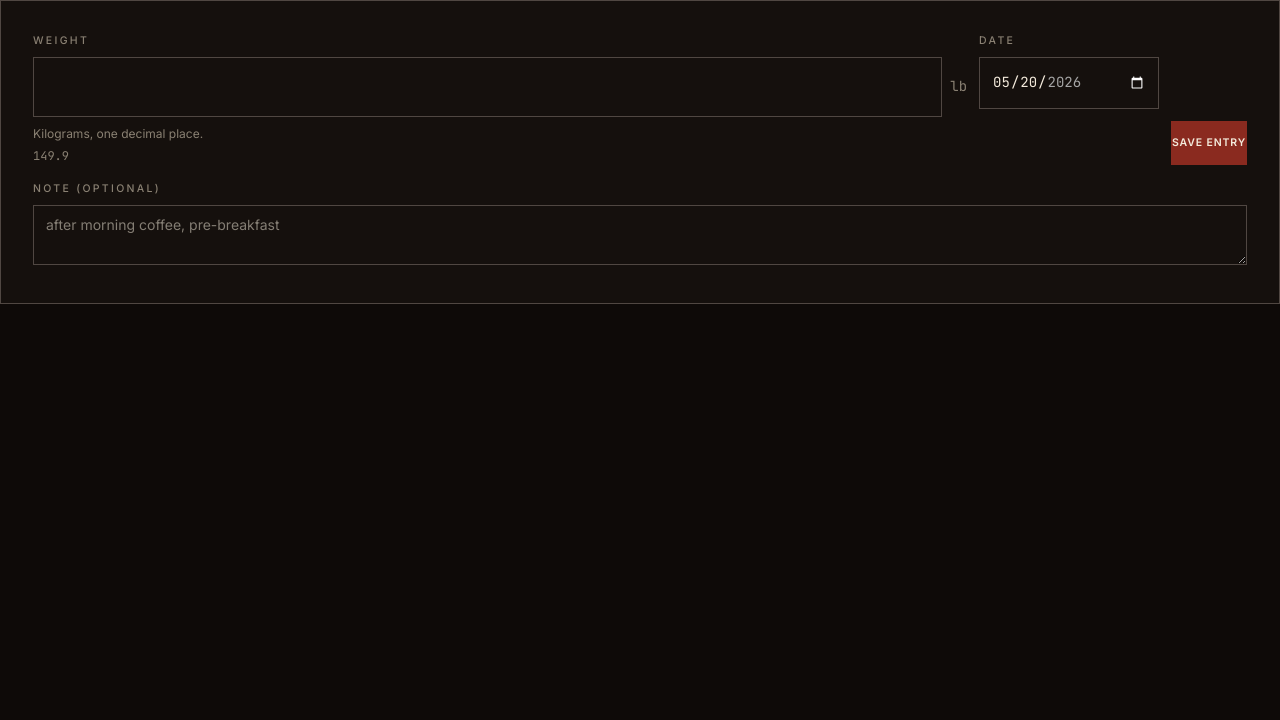
Test: F3 — WeightQuickAdd optimistic + rollback integration › imperial mode: server 500 → rollback toast shows lb, ARIA string says "pounds", body submits kg
The width and height of the screenshot is (1280, 720).
User types 154.3 lb.
Type "154.3" into the number field with test id "weight-quick-add-input" at (488, 87), box [33,57,942,117]
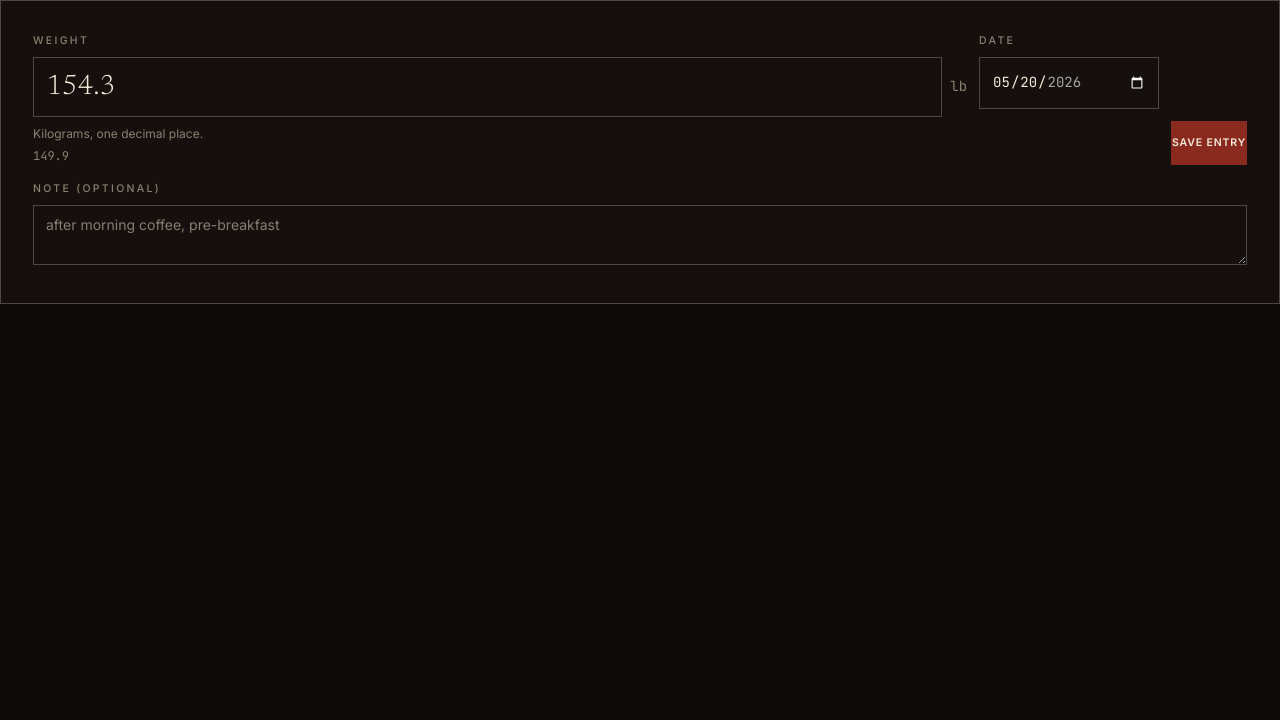
Submit the form with test id "weight-quick-add-submit", box [33,33,1247,270]
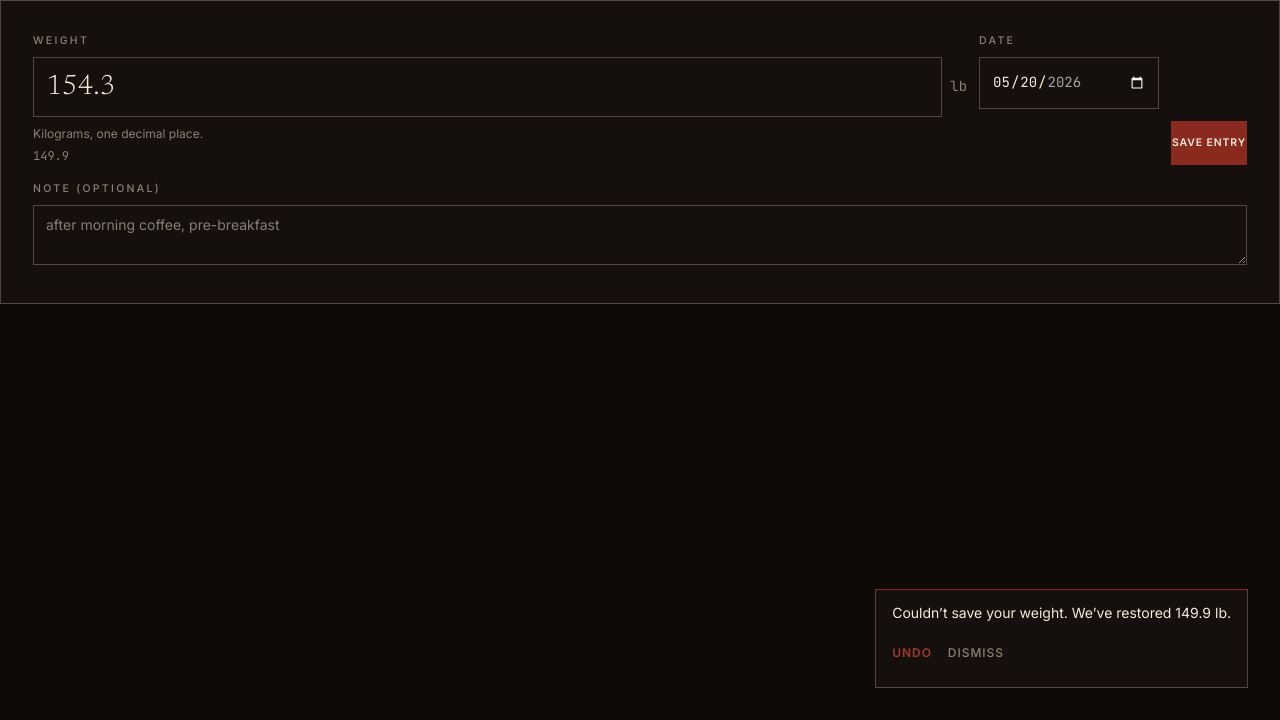
Expected: the element with test id "weight-quick-add-status" does not show "kilograms"
Expected: the message "Couldn’t save your weight. We’ve restored 149.9 lb. UNDO DISMISS" is shown, [875,589,1248,688]
Expected: the message with test id "weight-rollback-toast" reads "Couldn’t save your weight. We’ve restored 149.9 lb. UNDO DISMISS", [892,604,1231,621]
